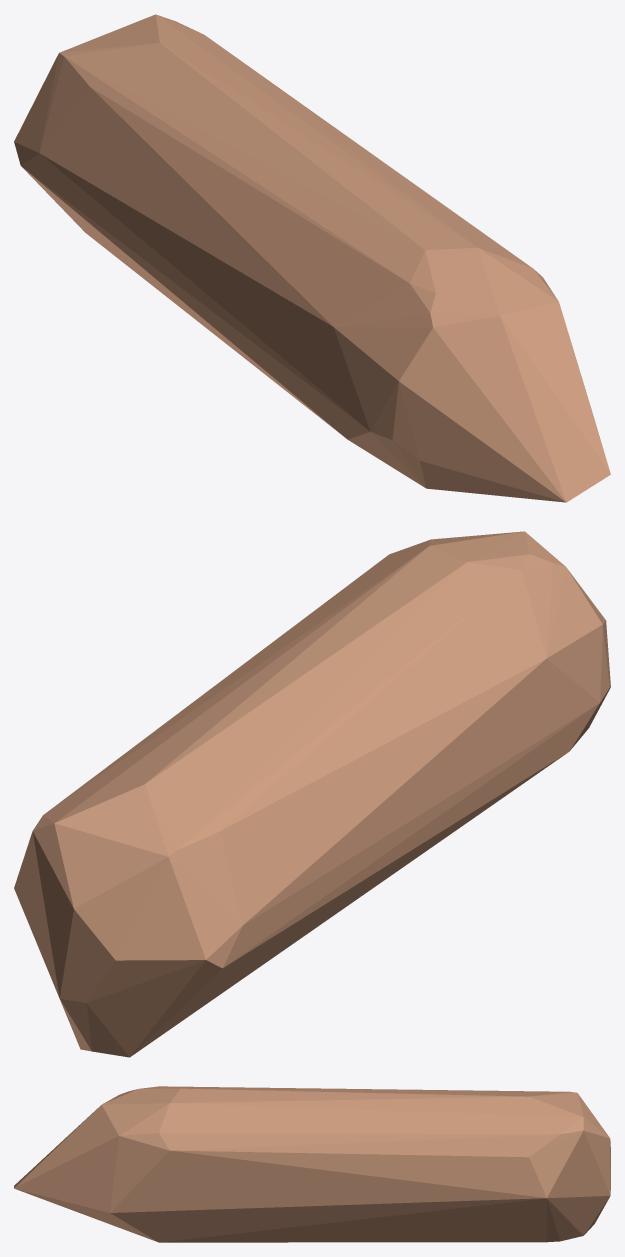
Rendered from food_beverage_bottledWater_n01.glb.
3 renders of one model, top to bottom at view 1: azimuth 30°, elevation 25°; view 2: azimuth 150°, elevation 25°; view 3: azimuth 270°, elevation 25°, orthographic. The views are drawn at different scales.
Parts seen in each view (by area): view 1: geometry_0; view 2: geometry_0; view 3: geometry_0.
Boxes of the visible parts, x1=… form: geometry_0: x1=14, y1=14, x2=610, y2=502; geometry_0: x1=14, y1=531, x2=610, y2=1057; geometry_0: x1=14, y1=1086, x2=610, y2=1242.
Size of the model in its own units: 0.1226 by 0.1221 by 0.48.
